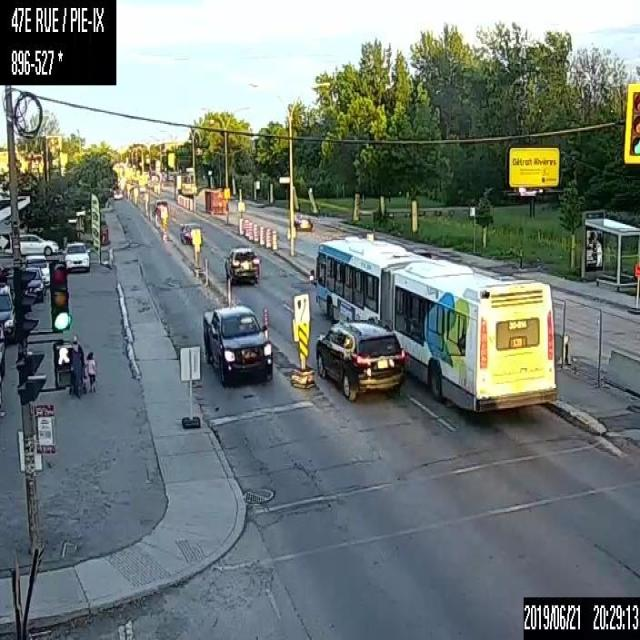bus: (308, 232, 557, 413)
construction: (226, 276, 232, 306), (247, 221, 252, 241), (263, 308, 268, 326), (243, 217, 248, 235), (253, 222, 257, 242), (259, 225, 263, 245), (266, 227, 270, 246), (272, 230, 276, 249)
pedestrian: (69, 333, 84, 395), (86, 350, 96, 398)
vehicle: (316, 322, 409, 399), (201, 303, 273, 385), (224, 246, 261, 286), (0, 281, 17, 343), (8, 234, 58, 254), (20, 265, 46, 302), (62, 241, 90, 270), (24, 254, 48, 285), (179, 220, 204, 245), (292, 210, 313, 230), (151, 196, 169, 213), (0, 323, 5, 377), (112, 185, 124, 200)
